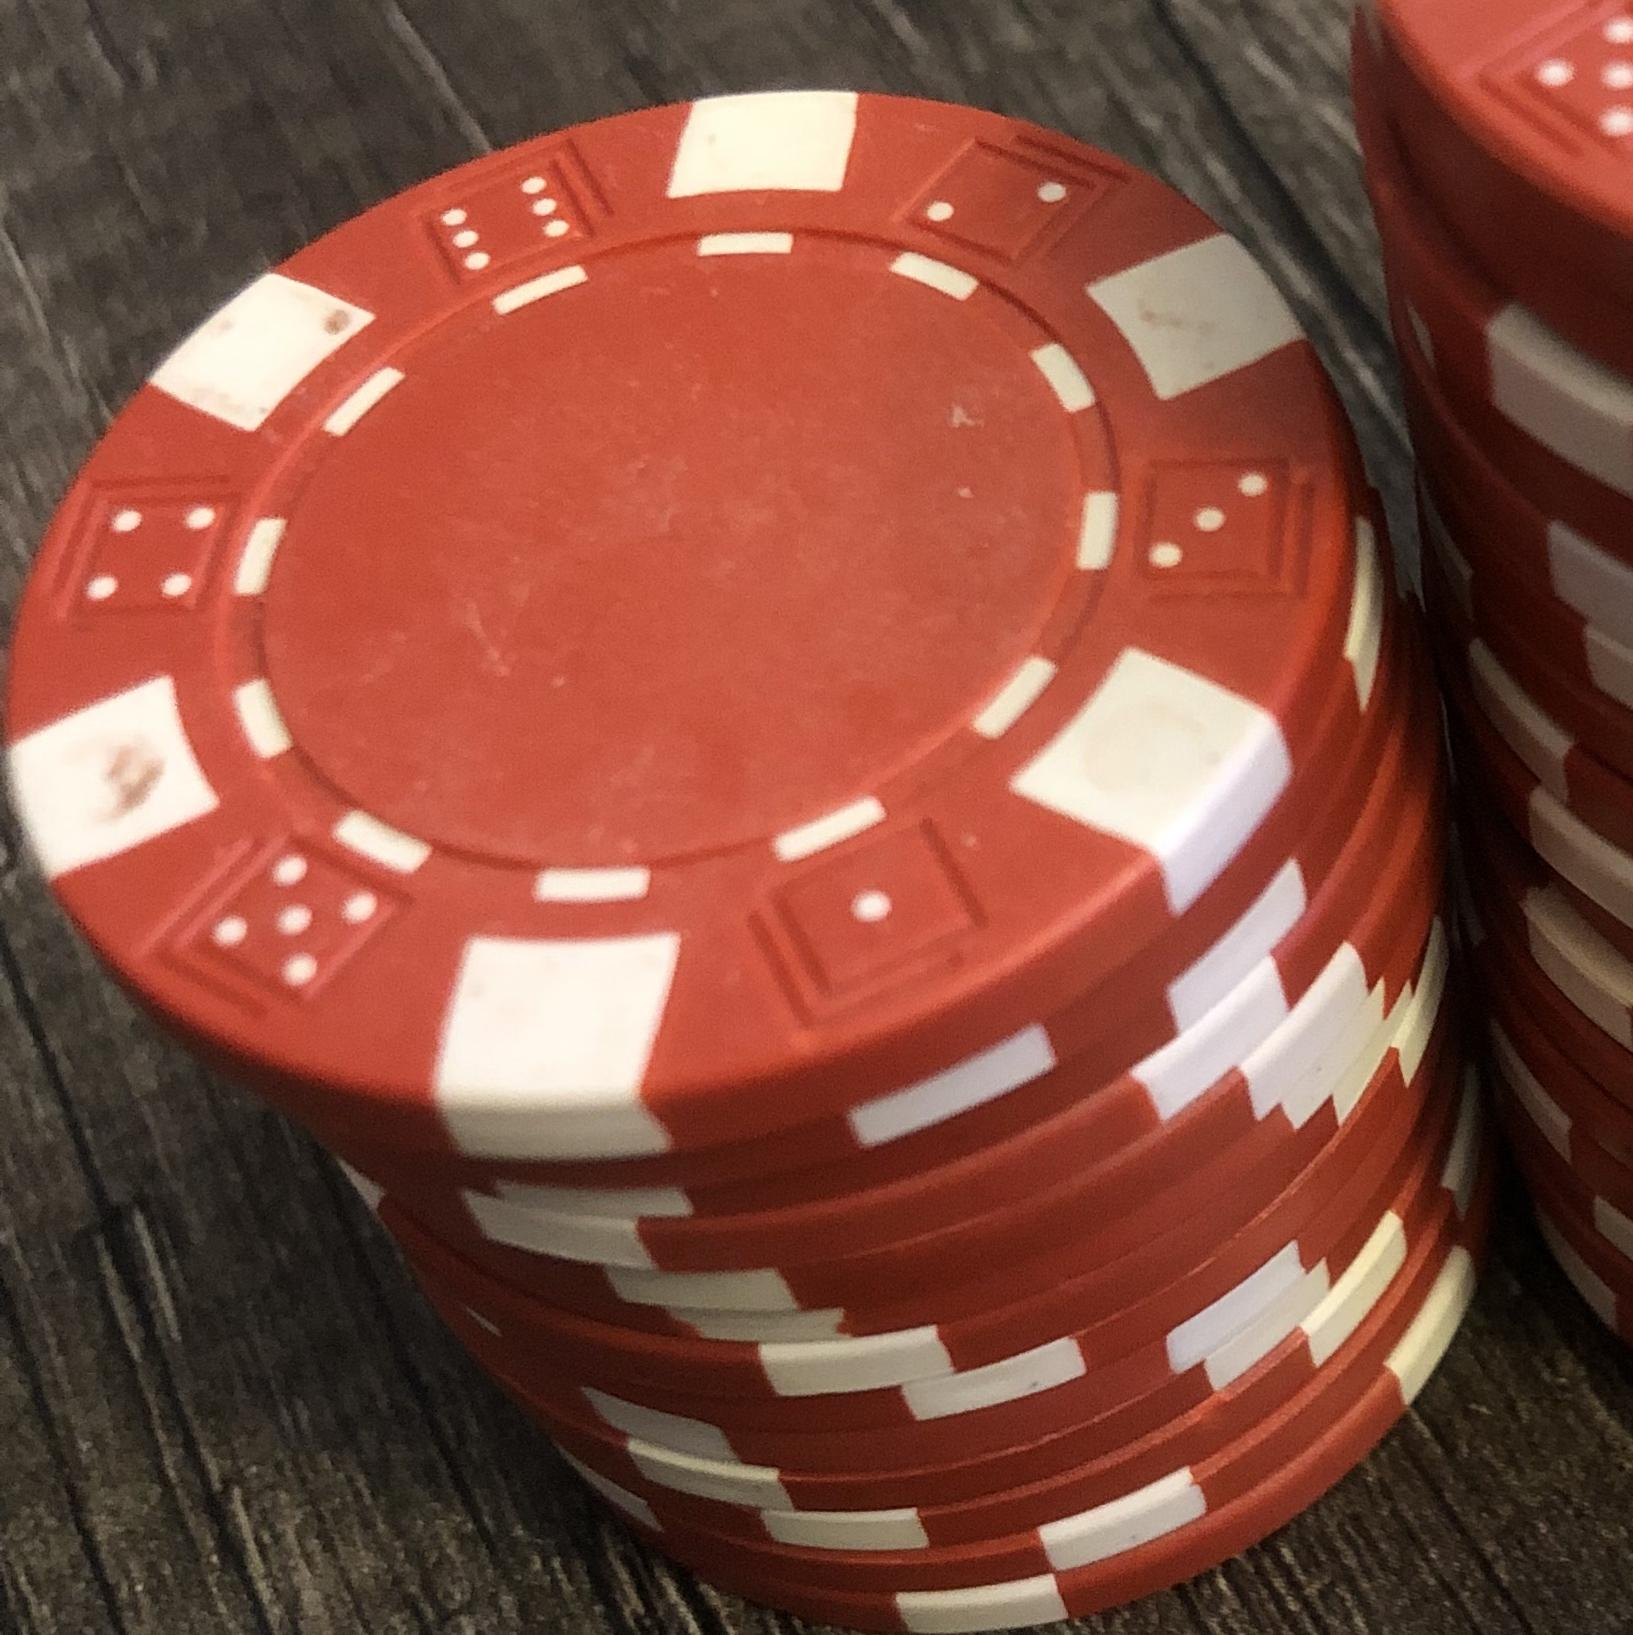Chip: (1, 1, 1633, 1635)
